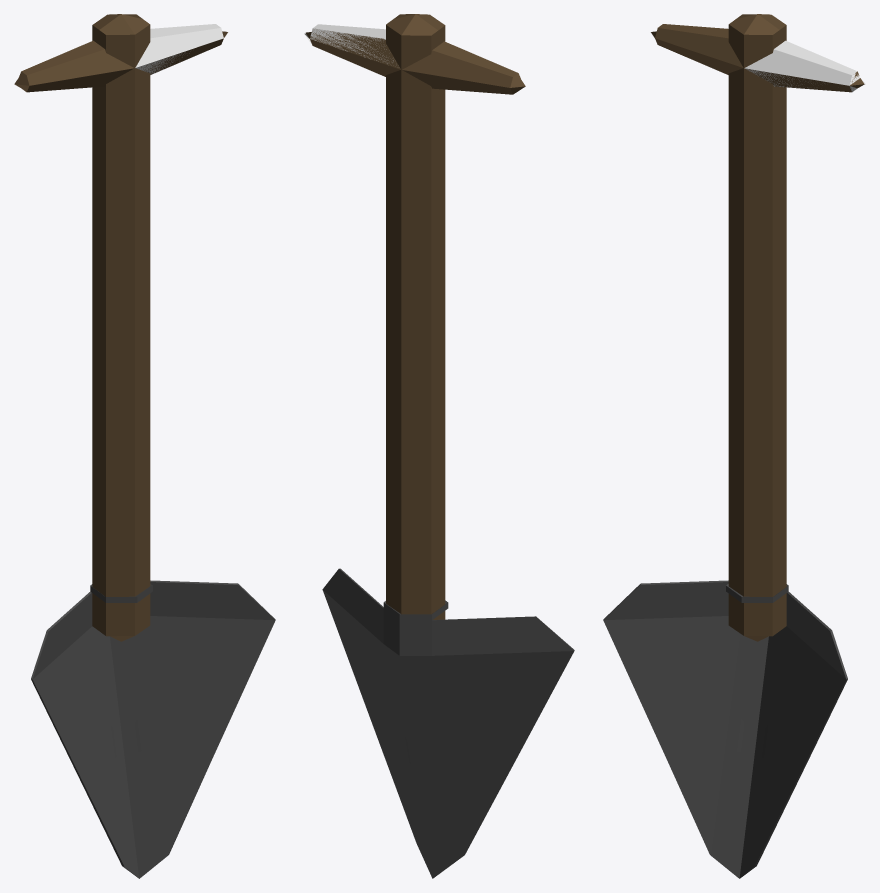
The model's file is Schep.fbx.
The picture shows the model from 3 angles, left to right: view 1: azimuth 30°, elevation 25°; view 2: azimuth 150°, elevation 25°; view 3: azimuth 330°, elevation 25°; orthographic projection. The views are drawn at different scales.
Parts seen in each view (by area): view 1: schepje, Cylinder; view 2: schepje, Cylinder; view 3: schepje, Cylinder.
Part boxes in pixels (x1,y1,x2,y2): schepje: (14, 14, 275, 878); Cylinder: (135, 24, 226, 74); schepje: (306, 14, 574, 878); Cylinder: (304, 24, 393, 63); schepje: (603, 14, 864, 878); Cylinder: (744, 40, 865, 92).
Size of the model in its own units: 33.13 by 110 by 11.32.
